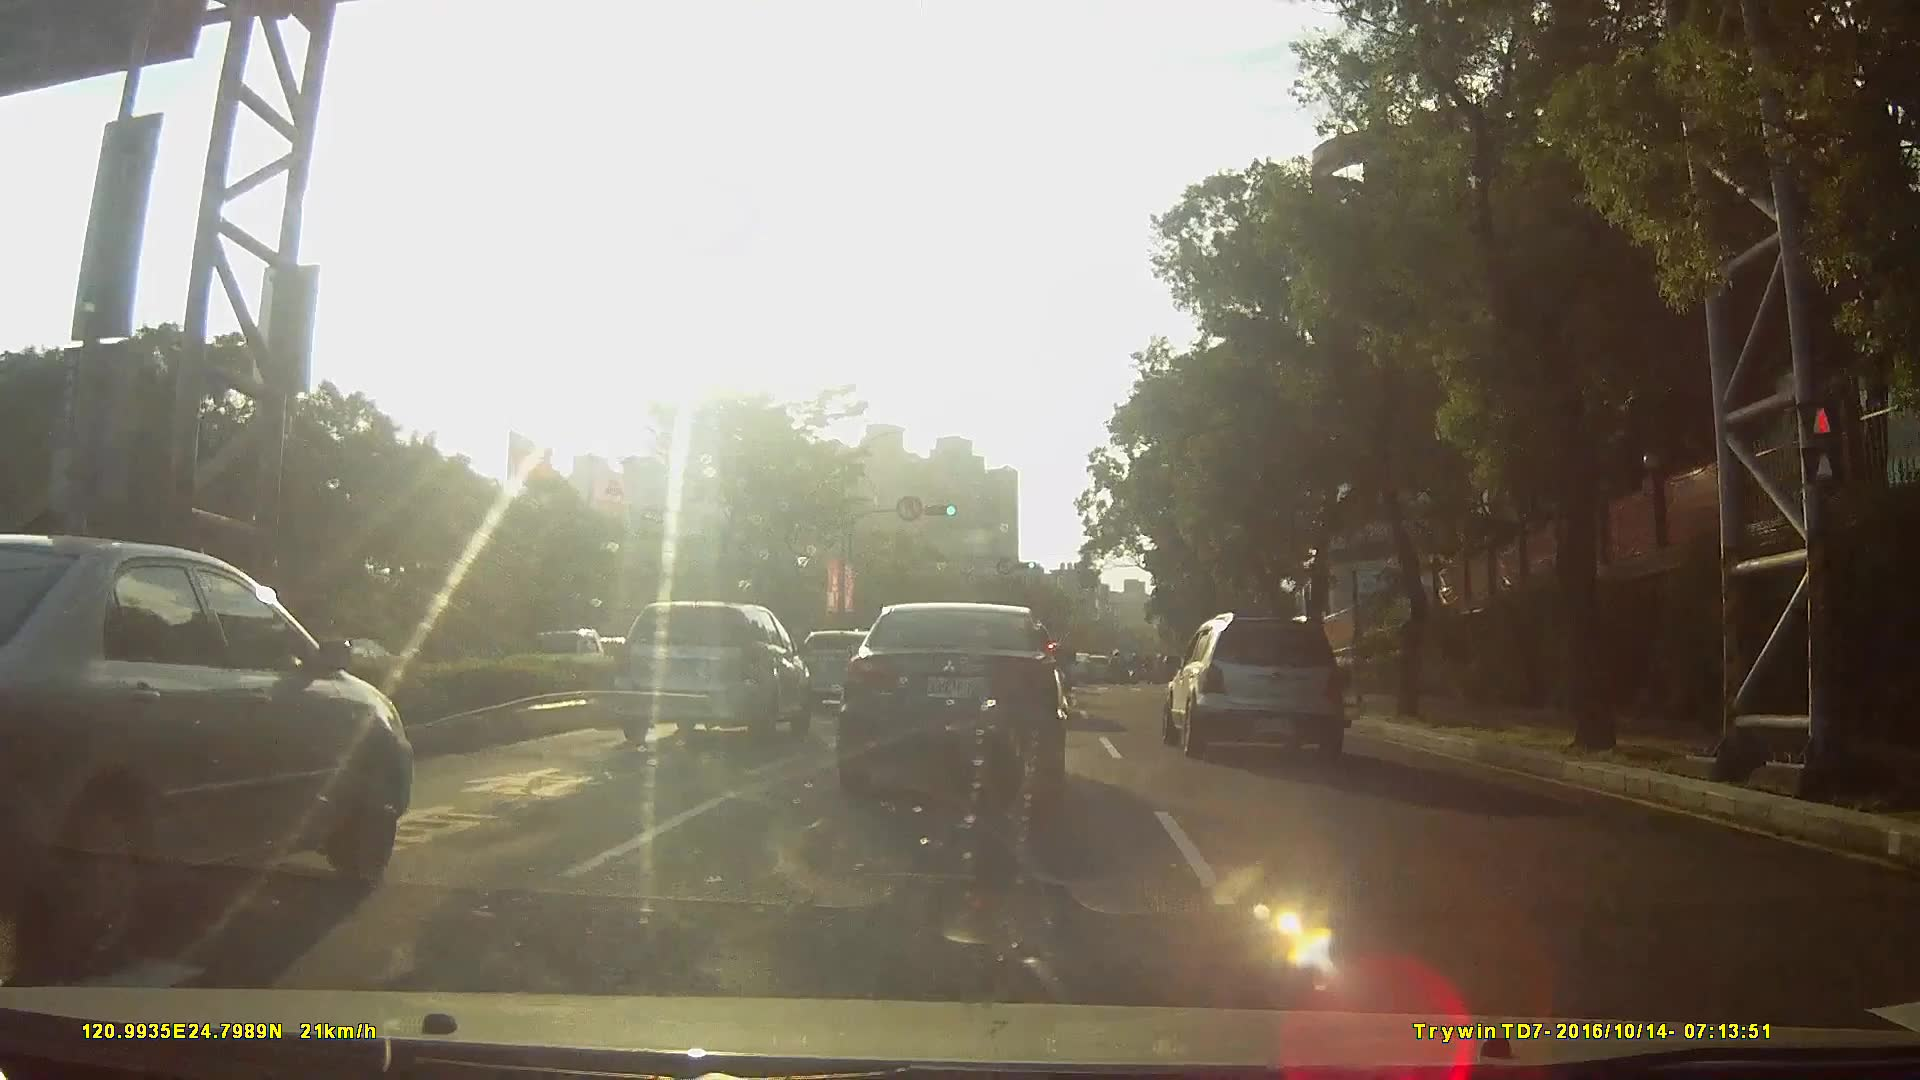vehicle: (1, 527, 427, 972), (837, 597, 1067, 804), (1156, 609, 1361, 757), (607, 601, 812, 746), (1059, 651, 1095, 684), (1080, 653, 1114, 684)
